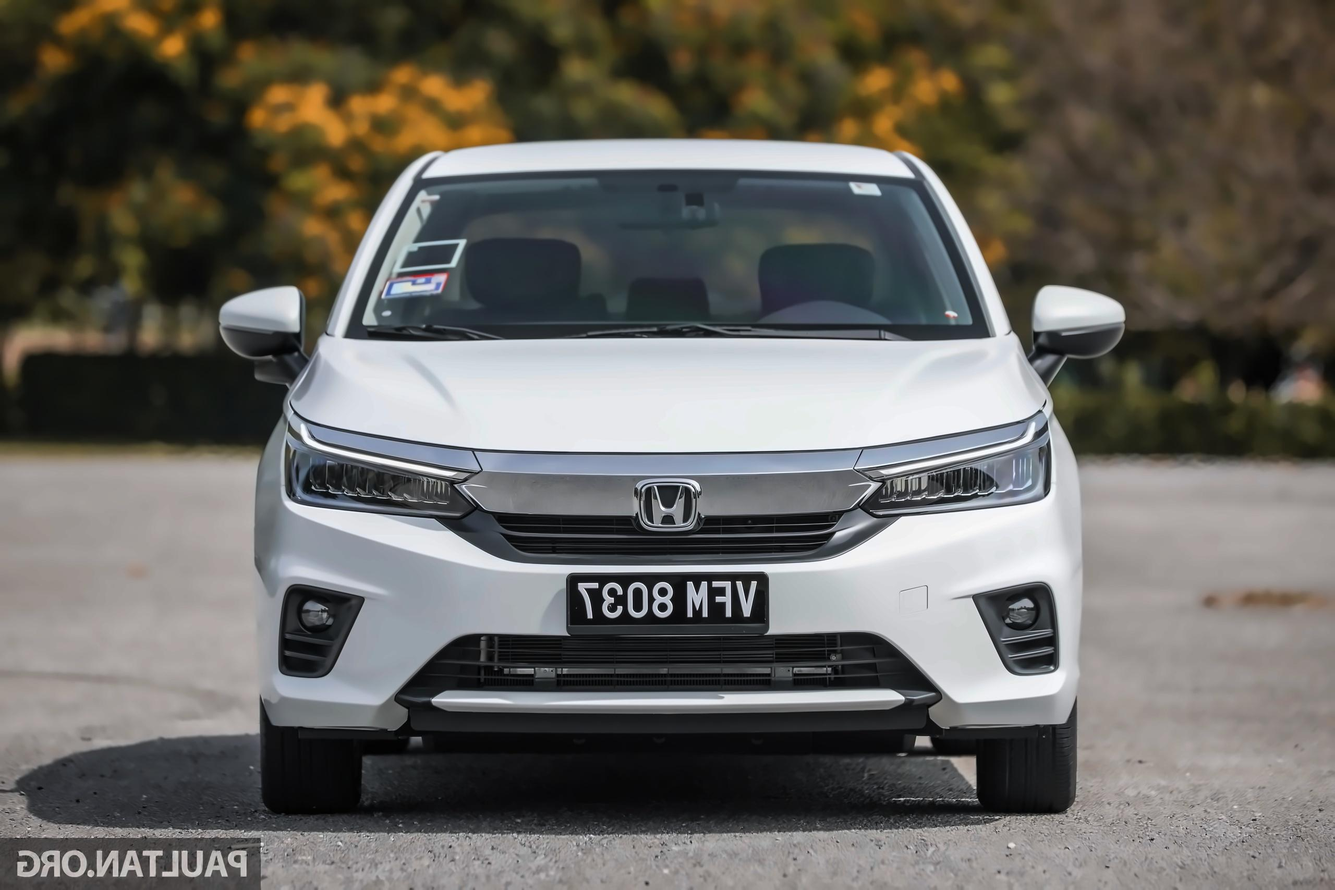Car hood: (279, 330, 1058, 477)
Front bumper: (248, 462, 1088, 755)
Headlight - -L-: (856, 409, 1055, 531)
Headlight - -R-: (280, 413, 474, 520)
Side mirror - -L-: (1029, 276, 1129, 374)
Side mirror - -R-: (215, 278, 310, 385)
